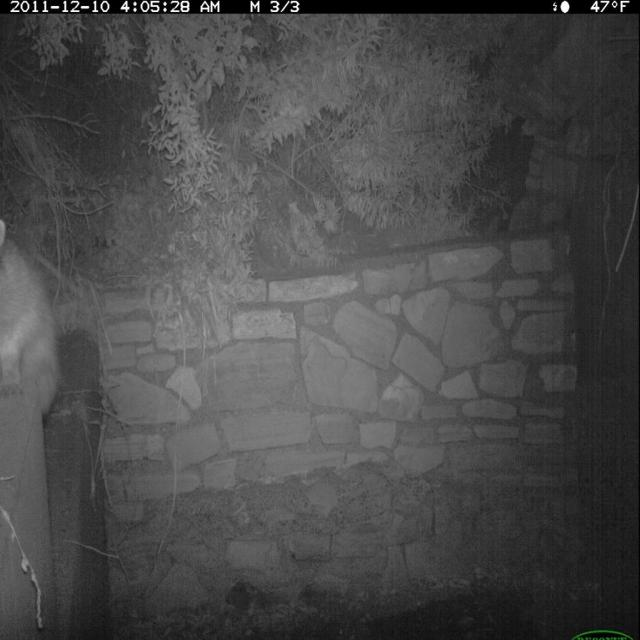raccoon: (2, 215, 69, 433)
